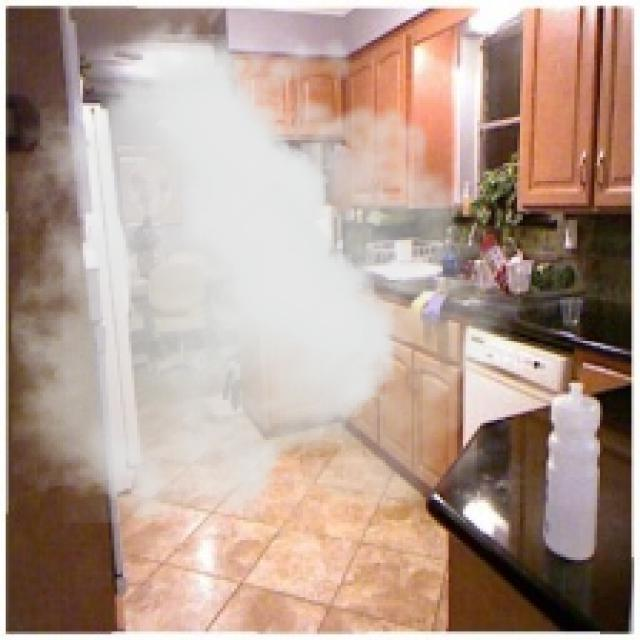smoke: (11, 3, 532, 523)
